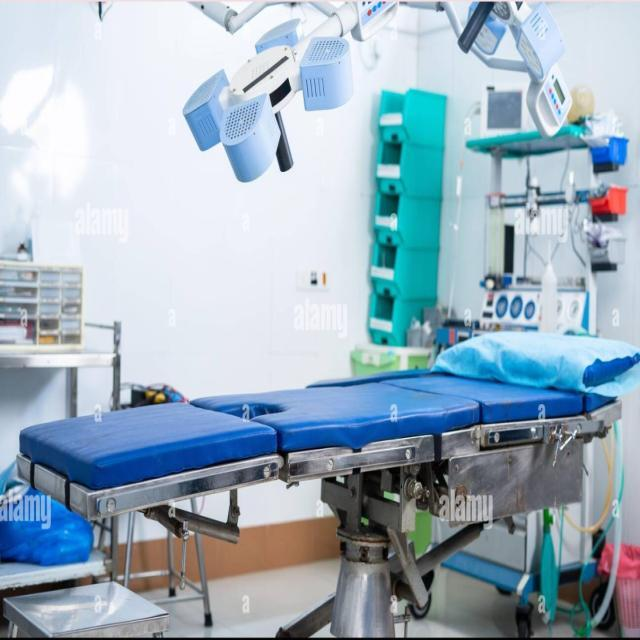bed: (12, 338, 630, 638)
